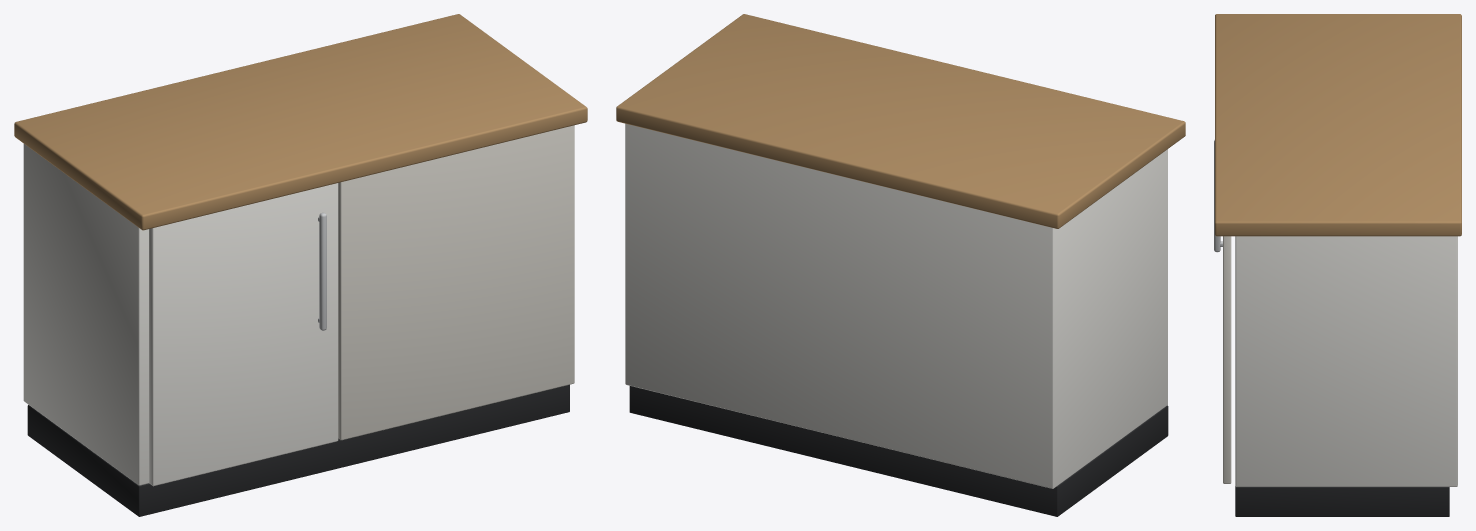
Rendered from mesa-armarios.glb.
3 renders of one model, left to right at view 1: azimuth 30°, elevation 25°; view 2: azimuth 150°, elevation 25°; view 3: azimuth 270°, elevation 25°, orthographic. The views are drawn at different scales.
Visible parts, largest first — view 1: Tablero, Paño fijo, Puerta.006, Cuerpo.009, Zócalo.005, Tirador.010; view 2: Cuerpo.009, Tablero, Zócalo.005; view 3: Cuerpo.009, Tablero, Zócalo.005, Paño fijo.
Boxes of the visible parts, bbox=[...] form: Tablero: bbox=[14, 14, 587, 230]; Paño fijo: bbox=[338, 125, 574, 440]; Puerta.006: bbox=[149, 183, 338, 486]; Cuerpo.009: bbox=[23, 144, 148, 485]; Zócalo.005: bbox=[27, 384, 569, 516]; Tirador.010: bbox=[319, 212, 326, 330]; Cuerpo.009: bbox=[625, 123, 1167, 488]; Tablero: bbox=[616, 14, 1185, 228]; Zócalo.005: bbox=[629, 386, 1168, 516]; Cuerpo.009: bbox=[1235, 236, 1457, 486]; Tablero: bbox=[1215, 14, 1461, 236]; Zócalo.005: bbox=[1235, 486, 1449, 516]; Paño fijo: bbox=[1223, 236, 1231, 483].
Size of the model in its own units: 1.2 by 0.8 by 0.602.
